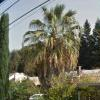Palm tree: (17, 12, 84, 84)
